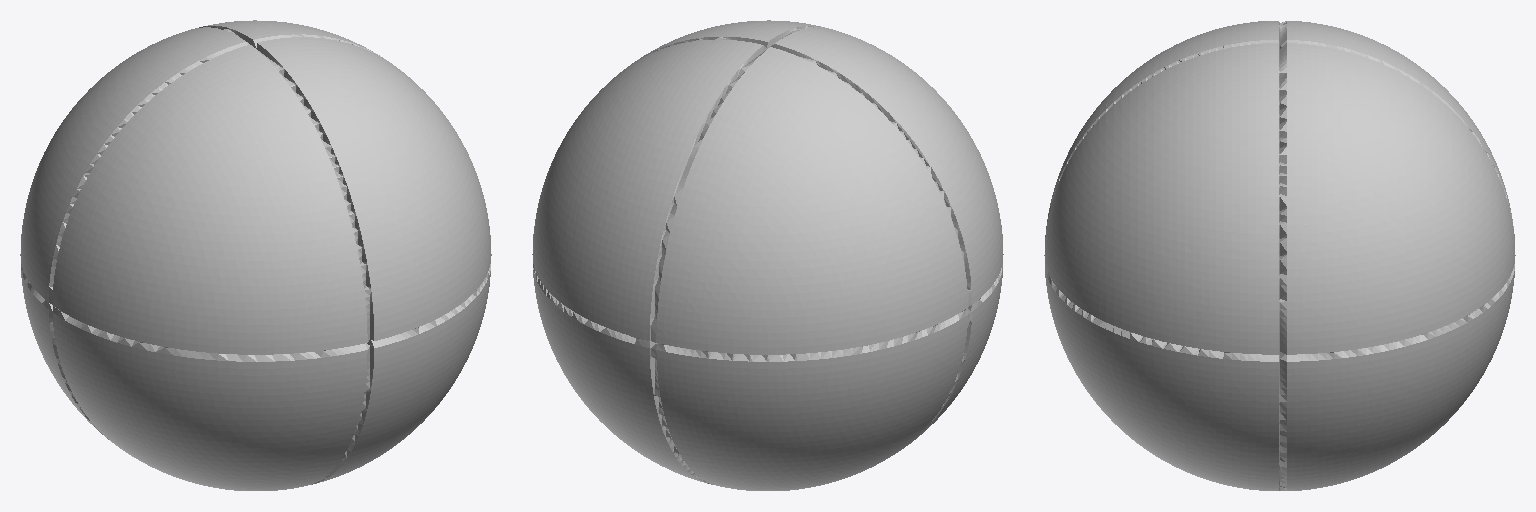
File: demo_clss_not_printable.obj
The picture shows the model from 3 angles: view 1: azimuth 30°, elevation 25°; view 2: azimuth 150°, elevation 25°; view 3: azimuth 270°, elevation 25°; orthographic projection.
Size of the model in its own units: 6 by 6 by 6.